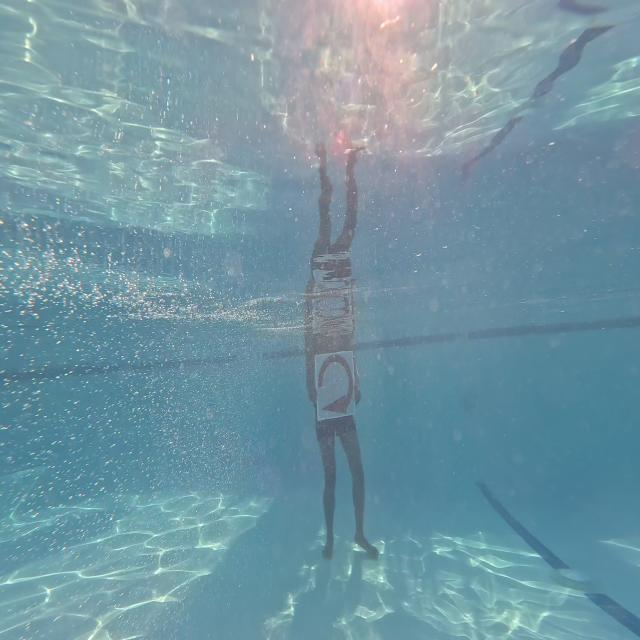red_side: (311, 346, 359, 421)
